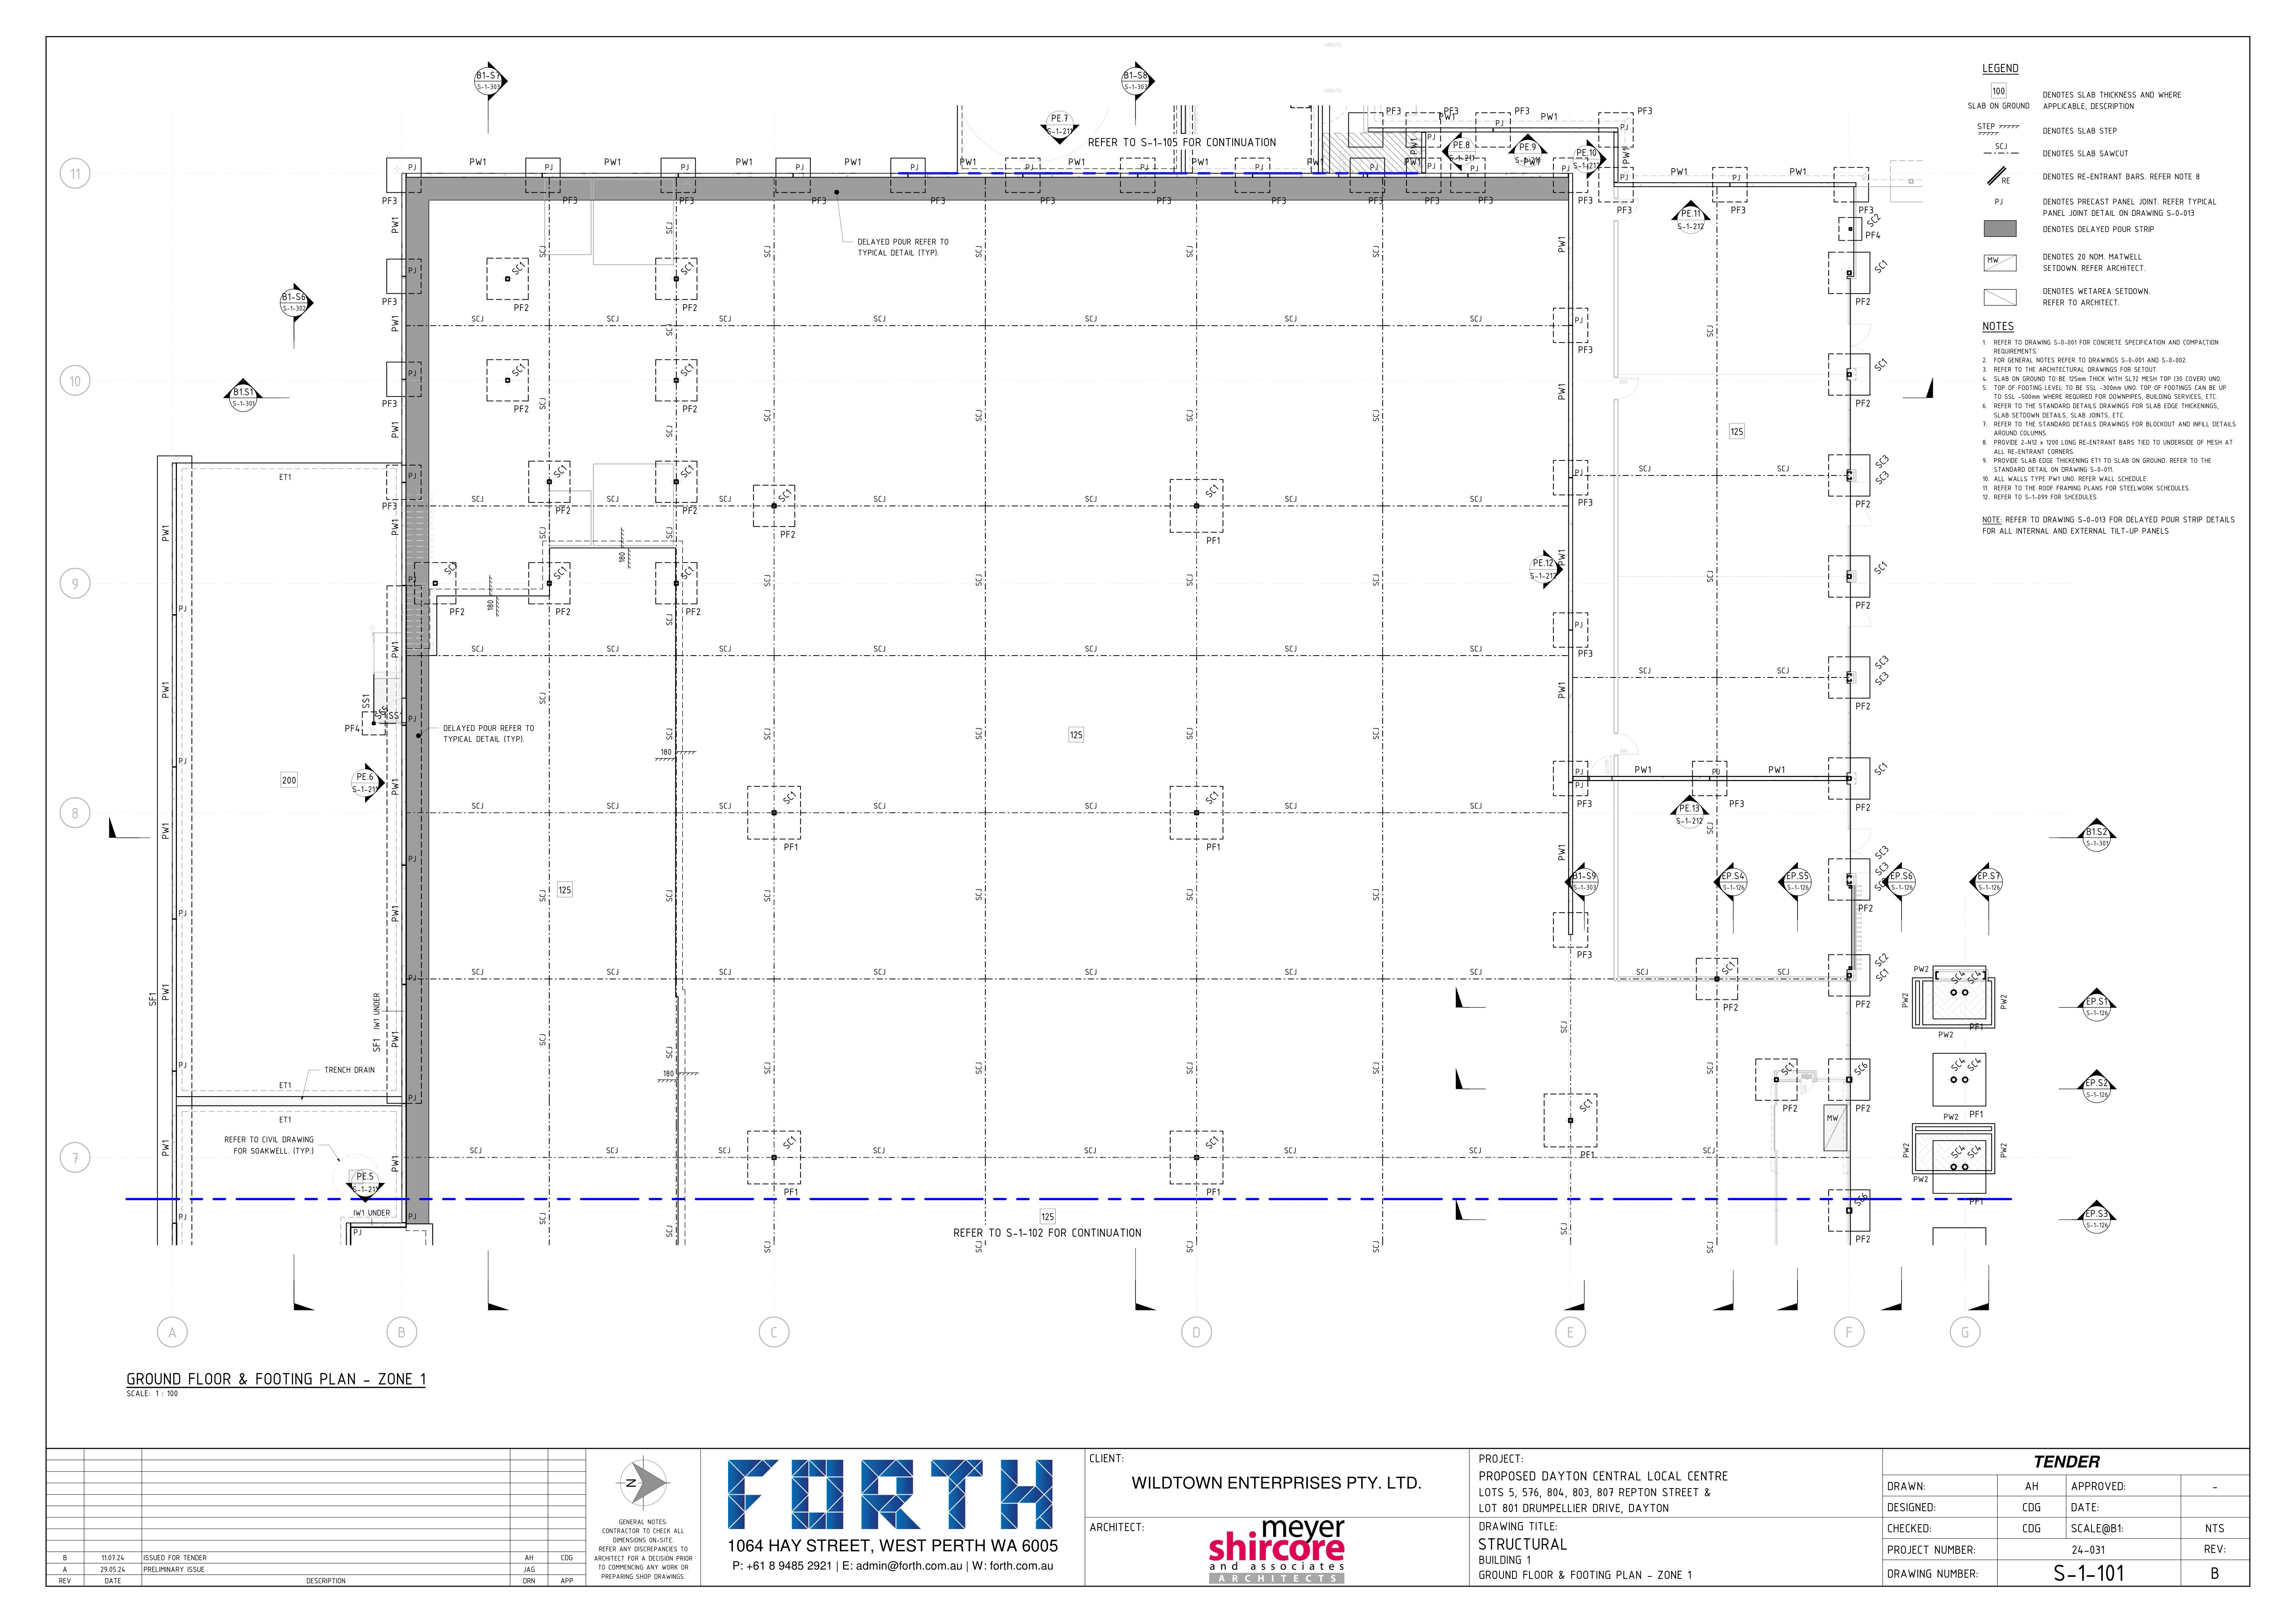ET1: (276, 469, 297, 483), (279, 1082, 295, 1091), (279, 1114, 293, 1122)
IW1: (350, 1207, 367, 1217)
PF1: (778, 838, 801, 854), (1205, 532, 1226, 548), (1207, 838, 1226, 854), (1969, 1021, 1987, 1035), (1969, 1107, 1987, 1121), (1967, 1194, 1985, 1208), (783, 1186, 803, 1198), (1205, 1186, 1224, 1196), (1581, 1149, 1597, 1159)
PF2: (1853, 1100, 1874, 1119), (1850, 497, 1874, 513), (1855, 393, 1874, 413), (509, 300, 531, 316), (508, 402, 531, 416), (680, 506, 703, 520), (1852, 599, 1873, 613), (776, 529, 799, 541), (448, 606, 471, 618), (682, 402, 699, 418), (555, 504, 574, 518), (685, 604, 704, 618), (1855, 295, 1873, 309), (1855, 998, 1874, 1010), (1722, 1003, 1741, 1015), (1778, 1101, 1799, 1112), (1857, 701, 1874, 713), (682, 302, 701, 313), (1853, 901, 1873, 912), (1853, 1233, 1873, 1244), (555, 608, 571, 618), (1855, 804, 1873, 813)
PF3: (1154, 193, 1179, 213), (1632, 102, 1657, 118), (928, 193, 950, 209), (376, 499, 401, 513), (1725, 202, 1750, 216), (559, 193, 581, 207), (1367, 197, 1390, 209), (1572, 947, 1595, 959), (1723, 796, 1746, 808), (810, 195, 829, 209), (1513, 102, 1532, 116), (379, 195, 401, 207), (1038, 195, 1059, 207), (1476, 195, 1497, 207), (1574, 497, 1595, 509), (1574, 797, 1595, 810), (1423, 193, 1440, 207), (378, 295, 399, 306), (379, 399, 399, 409), (1614, 204, 1634, 214), (1383, 105, 1402, 116), (1859, 202, 1874, 214), (680, 195, 697, 206), (1578, 195, 1593, 206), (1578, 646, 1593, 657), (1444, 104, 1462, 112), (1272, 195, 1286, 206)
PF4: (341, 718, 362, 734), (1866, 232, 1883, 241)
PJ: (1725, 169, 1750, 184), (536, 160, 557, 174), (678, 158, 696, 174), (177, 601, 193, 618), (1614, 119, 1634, 133), (1021, 158, 1038, 172), (174, 1208, 191, 1223), (406, 158, 420, 174), (794, 162, 812, 174), (176, 1059, 193, 1071), (906, 158, 921, 172), (408, 1208, 422, 1223), (1572, 467, 1588, 480), (406, 471, 422, 483), (406, 852, 422, 864), (1708, 766, 1725, 776), (348, 1228, 365, 1238), (404, 1093, 422, 1103), (1138, 160, 1151, 174), (176, 752, 188, 766), (406, 971, 420, 984), (1556, 163, 1572, 174), (1251, 162, 1265, 172), (1367, 163, 1381, 174), (1467, 163, 1481, 174), (1491, 118, 1505, 128), (406, 571, 420, 581), (1570, 768, 1588, 775), (408, 713, 418, 724), (1428, 160, 1437, 172), (1426, 133, 1439, 142), (1576, 313, 1585, 325), (1574, 780, 1586, 789), (1572, 622, 1586, 629), (177, 910, 191, 917)
PW1: (1549, 682, 1569, 703), (1632, 759, 1655, 776), (156, 522, 172, 546), (386, 313, 402, 335), (467, 155, 492, 169), (1537, 107, 1562, 121), (386, 416, 401, 441), (158, 1136, 172, 1161), (1787, 165, 1808, 181), (388, 214, 404, 235), (385, 903, 401, 924), (388, 1154, 404, 1175), (1669, 163, 1692, 177), (601, 156, 625, 169), (733, 156, 757, 169), (1303, 155, 1325, 169), (843, 156, 866, 169), (957, 156, 980, 169), (1066, 155, 1087, 167), (388, 639, 401, 660), (390, 775, 401, 799), (390, 1029, 402, 1050), (1435, 112, 1458, 123), (158, 984, 170, 1003), (1767, 762, 1787, 775), (160, 682, 172, 699), (1556, 237, 1569, 255), (1193, 158, 1212, 169), (1621, 146, 1632, 165), (1556, 845, 1567, 864), (162, 819, 170, 841), (1407, 135, 1419, 151), (1402, 156, 1423, 165), (392, 518, 401, 536)
PW2: (1938, 1107, 1962, 1124), (1997, 1140, 2011, 1161), (1999, 989, 2011, 1012), (1911, 963, 1931, 975), (1899, 1140, 1911, 1158), (1899, 991, 1910, 1008), (1939, 1029, 1957, 1040), (1911, 1177, 1929, 1184)
SC1: (1780, 1057, 1799, 1077), (441, 557, 462, 574), (1202, 789, 1223, 804), (778, 790, 799, 806), (680, 460, 696, 480), (775, 487, 794, 502), (1874, 255, 1890, 274), (1203, 483, 1223, 499), (552, 462, 567, 480), (553, 562, 569, 580), (1874, 355, 1888, 374), (1871, 968, 1890, 982), (676, 566, 696, 580), (511, 260, 527, 276), (1876, 559, 1888, 578), (1203, 1136, 1223, 1149), (680, 258, 694, 274), (1874, 759, 1888, 775), (1722, 959, 1736, 975), (680, 362, 694, 376), (511, 364, 525, 378), (1579, 1098, 1593, 1112), (783, 1136, 798, 1149)
SC2: (1874, 950, 1890, 968), (1867, 216, 1883, 228)
SC3: (1871, 652, 1890, 669), (1874, 469, 1890, 487), (1873, 671, 1890, 687), (1874, 845, 1890, 859), (1871, 862, 1888, 875), (1878, 453, 1890, 467), (1874, 878, 1888, 891)
SC4: (1950, 1056, 1966, 1073), (1969, 1056, 1985, 1073), (1969, 1143, 1983, 1161), (1950, 1143, 1966, 1158), (1952, 971, 1964, 985), (1969, 971, 1982, 985)
SC5: (374, 704, 386, 717)
SC6: (1852, 1061, 1871, 1077), (1855, 1194, 1869, 1205)
SF1: (367, 1036, 383, 1056)
SS1: (355, 690, 372, 710), (390, 708, 404, 720)
